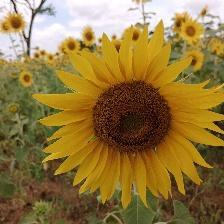sunflower: (53, 44, 221, 191)
